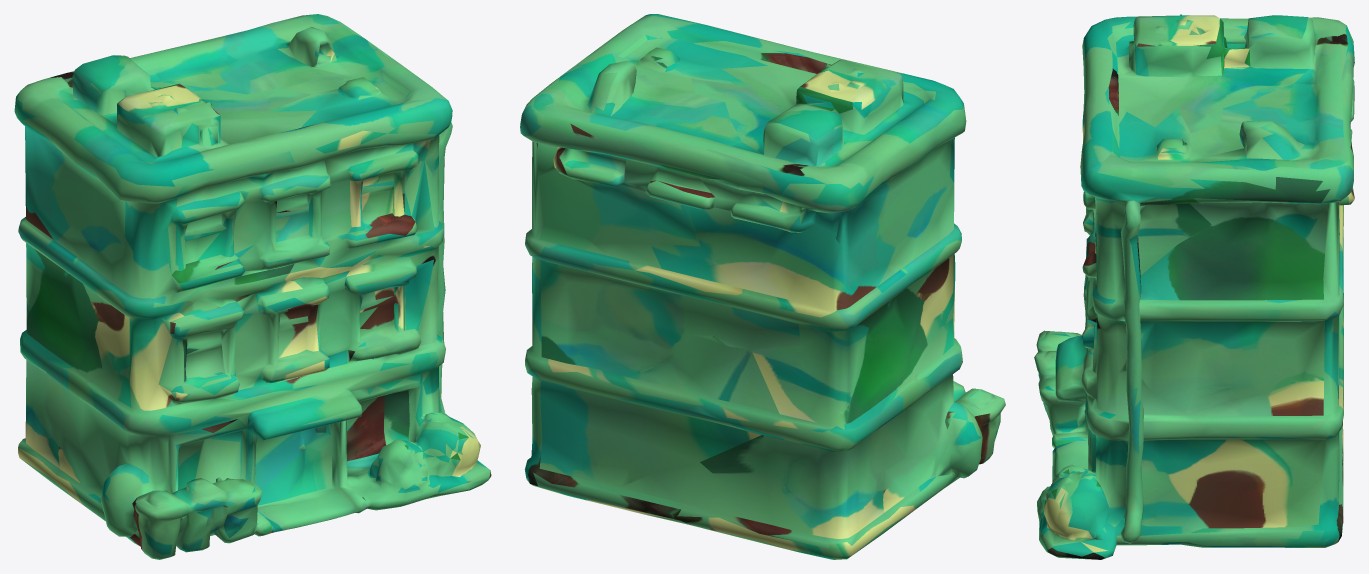
Rendered from Building1.fbx.
3 views of the same model, side by side, from view 1: azimuth 30°, elevation 25°; view 2: azimuth 150°, elevation 25°; view 3: azimuth 270°, elevation 25° (orthographic). The views are drawn at different scales.
Parts seen in each view (by area): view 1: Mesh_0; view 2: Mesh_0; view 3: Mesh_0.
Boxes of the visible parts, bbox=[...] form: Mesh_0: bbox=[14, 14, 491, 559]; Mesh_0: bbox=[520, 14, 1005, 559]; Mesh_0: bbox=[1034, 14, 1354, 559].
Size of the model in its own units: 188 by 200 by 143.
